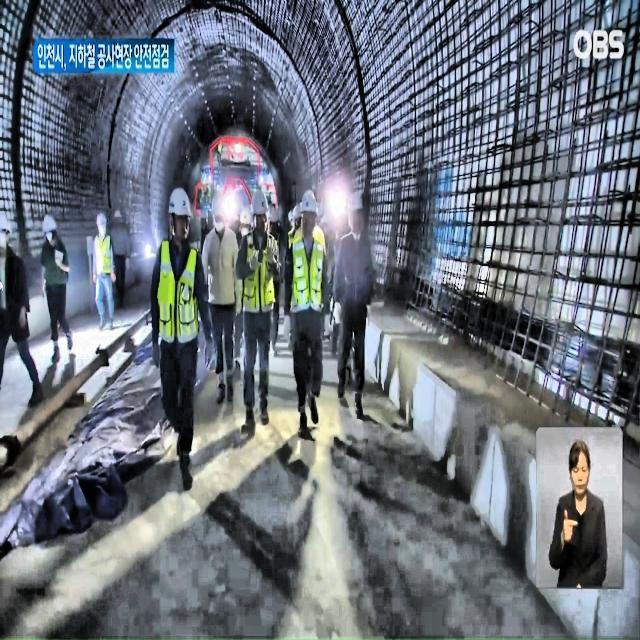safety_helmet: (168, 187, 194, 222), (247, 190, 273, 217), (346, 188, 366, 214), (299, 193, 319, 217), (0, 208, 14, 236), (210, 197, 228, 216), (42, 217, 55, 236), (93, 212, 106, 231), (238, 208, 252, 225), (291, 200, 301, 220)
safety_jacket: (155, 242, 199, 341), (242, 236, 276, 309), (292, 242, 322, 314), (94, 236, 113, 281)
